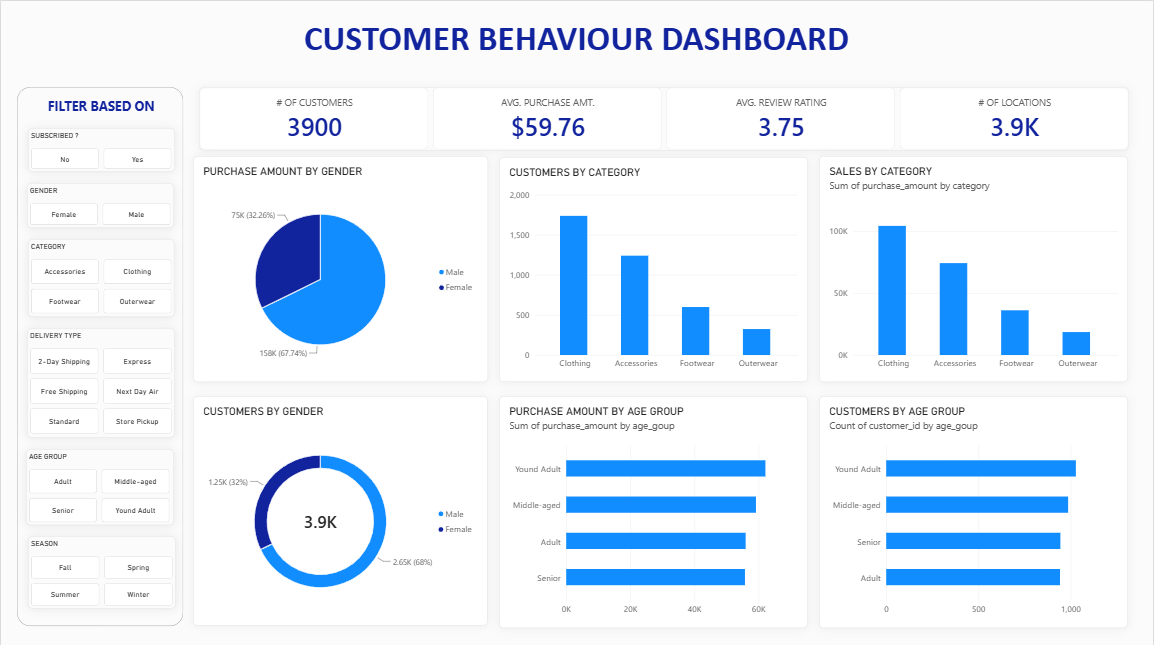

This screenshot's page, from the dashboard's own definition file:
{"tool":"powerbi","page":{"name":"Page 1","canvas":[1920,1080],"ordinal":0},"visuals":[{"type":"shape","box":[27.1,142.9,277.1,898.6],"z":0},{"type":"cardVisual","fields":{"Data":["customer_behaviour customer_shopping_behavior.Number of Customers","customer_behaviour customer_shopping_behavior.Average Purchase Amount","customer_behaviour customer_shopping_behavior.Average Review Rating","CountNonNull(customer_behaviour customer_shopping_behavior.location)"]},"box":[330,142.9,1550,105.7],"z":1000},{"type":"textbox","box":[473.3,25,971.7,80],"z":2000},{"type":"clusteredColumnChart","title":"SALES BY CATEGORY","fields":{"Category":["customer_behaviour customer_shopping_behavior.category"],"Y":["Sum(customer_behaviour customer_shopping_behavior.purchase_amount)"]},"box":[1363.3,258.3,515,376.7],"z":3000},{"type":"clusteredColumnChart","title":"CUSTOMERS BY CATEGORY","fields":{"Category":["customer_behaviour customer_shopping_behavior.category"],"Y":["CountNonNull(customer_behaviour customer_shopping_behavior.customer_id)"]},"box":[830,260,515,375],"z":4000},{"type":"advancedSlicerVisual","title":"SUBSCRIBED ?","fields":{"Values":["customer_behaviour customer_shopping_behavior.subscription_status"]},"box":[44.3,211.4,245,73],"z":5000},{"type":"clusteredBarChart","title":"PURCHASE AMOUNT BY AGE GROUP","fields":{"Category":["customer_behaviour customer_shopping_behavior.age_goup"],"Y":["Sum(customer_behaviour customer_shopping_behavior.purchase_amount)"]},"box":[830,658.3,515,386.7],"z":6000},{"type":"clusteredBarChart","title":"CUSTOMERS BY AGE GROUP","fields":{"Category":["customer_behaviour customer_shopping_behavior.age_goup"],"Y":["CountNonNull(customer_behaviour customer_shopping_behavior.customer_id)"]},"box":[1363.3,658.3,515,386.7],"z":7000},{"type":"pieChart","title":"PURCHASE AMOUNT BY GENDER","fields":{"Category":["customer_behaviour customer_shopping_behavior.gender"],"Y":["Sum(customer_behaviour customer_shopping_behavior.purchase_amount)"]},"box":[320,258.3,491.7,376.7],"z":8000},{"type":"advancedSlicerVisual","title":"GENDER","fields":{"Values":["customer_behaviour customer_shopping_behavior.gender"]},"box":[43,302.9,245,75],"z":9000},{"type":"advancedSlicerVisual","title":"CATEGORY","fields":{"Values":["customer_behaviour customer_shopping_behavior.category"]},"box":[44.3,396.3,244.3,130],"z":10000},{"type":"advancedSlicerVisual","title":"DELIVERY TYPE","fields":{"Values":["customer_behaviour customer_shopping_behavior.shipping_type"]},"box":[43.3,544.7,246,183],"z":11000},{"type":"advancedSlicerVisual","title":"AGE GROUP","fields":{"Values":["customer_behaviour customer_shopping_behavior.age_goup"]},"box":[42.3,746.1,245.7,127.1],"z":12000},{"type":"advancedSlicerVisual","title":"SEASON","fields":{"Values":["customer_behaviour customer_shopping_behavior.season"]},"box":[44.3,891.7,246,121],"z":13000},{"type":"textbox","box":[28.6,160,277.1,35.7],"z":14000},{"type":"donutChart","title":"CUSTOMERS BY GENDER","fields":{"Category":["customer_behaviour customer_shopping_behavior.gender"],"Y":["CountNonNull(customer_behaviour customer_shopping_behavior.customer_id)"]},"box":[320,658.6,491.4,382.9],"z":15000}]}

Visuals, with their boxes in screenshot pixels (x1, y1, x2, y2), scaled from the page's 1920x1080 canvas onto the 1154x645 screenshot:
shape: x1=16 y1=85 x2=183 y2=622
cardVisual - customer_behaviour customer_shopping_behavior.Number of Customers x customer_behaviour customer_shopping_behavior.Average Purchase Amount: x1=198 y1=85 x2=1130 y2=148
textbox: x1=284 y1=15 x2=869 y2=63
"SALES BY CATEGORY" clusteredColumnChart: x1=819 y1=154 x2=1129 y2=379
"CUSTOMERS BY CATEGORY" clusteredColumnChart: x1=499 y1=155 x2=808 y2=379
"SUBSCRIBED ?" advancedSlicerVisual: x1=27 y1=126 x2=174 y2=170
"PURCHASE AMOUNT BY AGE GROUP" clusteredBarChart: x1=499 y1=393 x2=808 y2=624
"CUSTOMERS BY AGE GROUP" clusteredBarChart: x1=819 y1=393 x2=1129 y2=624
"PURCHASE AMOUNT BY GENDER" pieChart: x1=192 y1=154 x2=488 y2=379
"GENDER" advancedSlicerVisual: x1=26 y1=181 x2=173 y2=226
"CATEGORY" advancedSlicerVisual: x1=27 y1=237 x2=173 y2=314
"DELIVERY TYPE" advancedSlicerVisual: x1=26 y1=325 x2=174 y2=435
"AGE GROUP" advancedSlicerVisual: x1=25 y1=446 x2=173 y2=521
"SEASON" advancedSlicerVisual: x1=27 y1=533 x2=174 y2=605
textbox: x1=17 y1=96 x2=184 y2=117
"CUSTOMERS BY GENDER" donutChart: x1=192 y1=393 x2=488 y2=622
